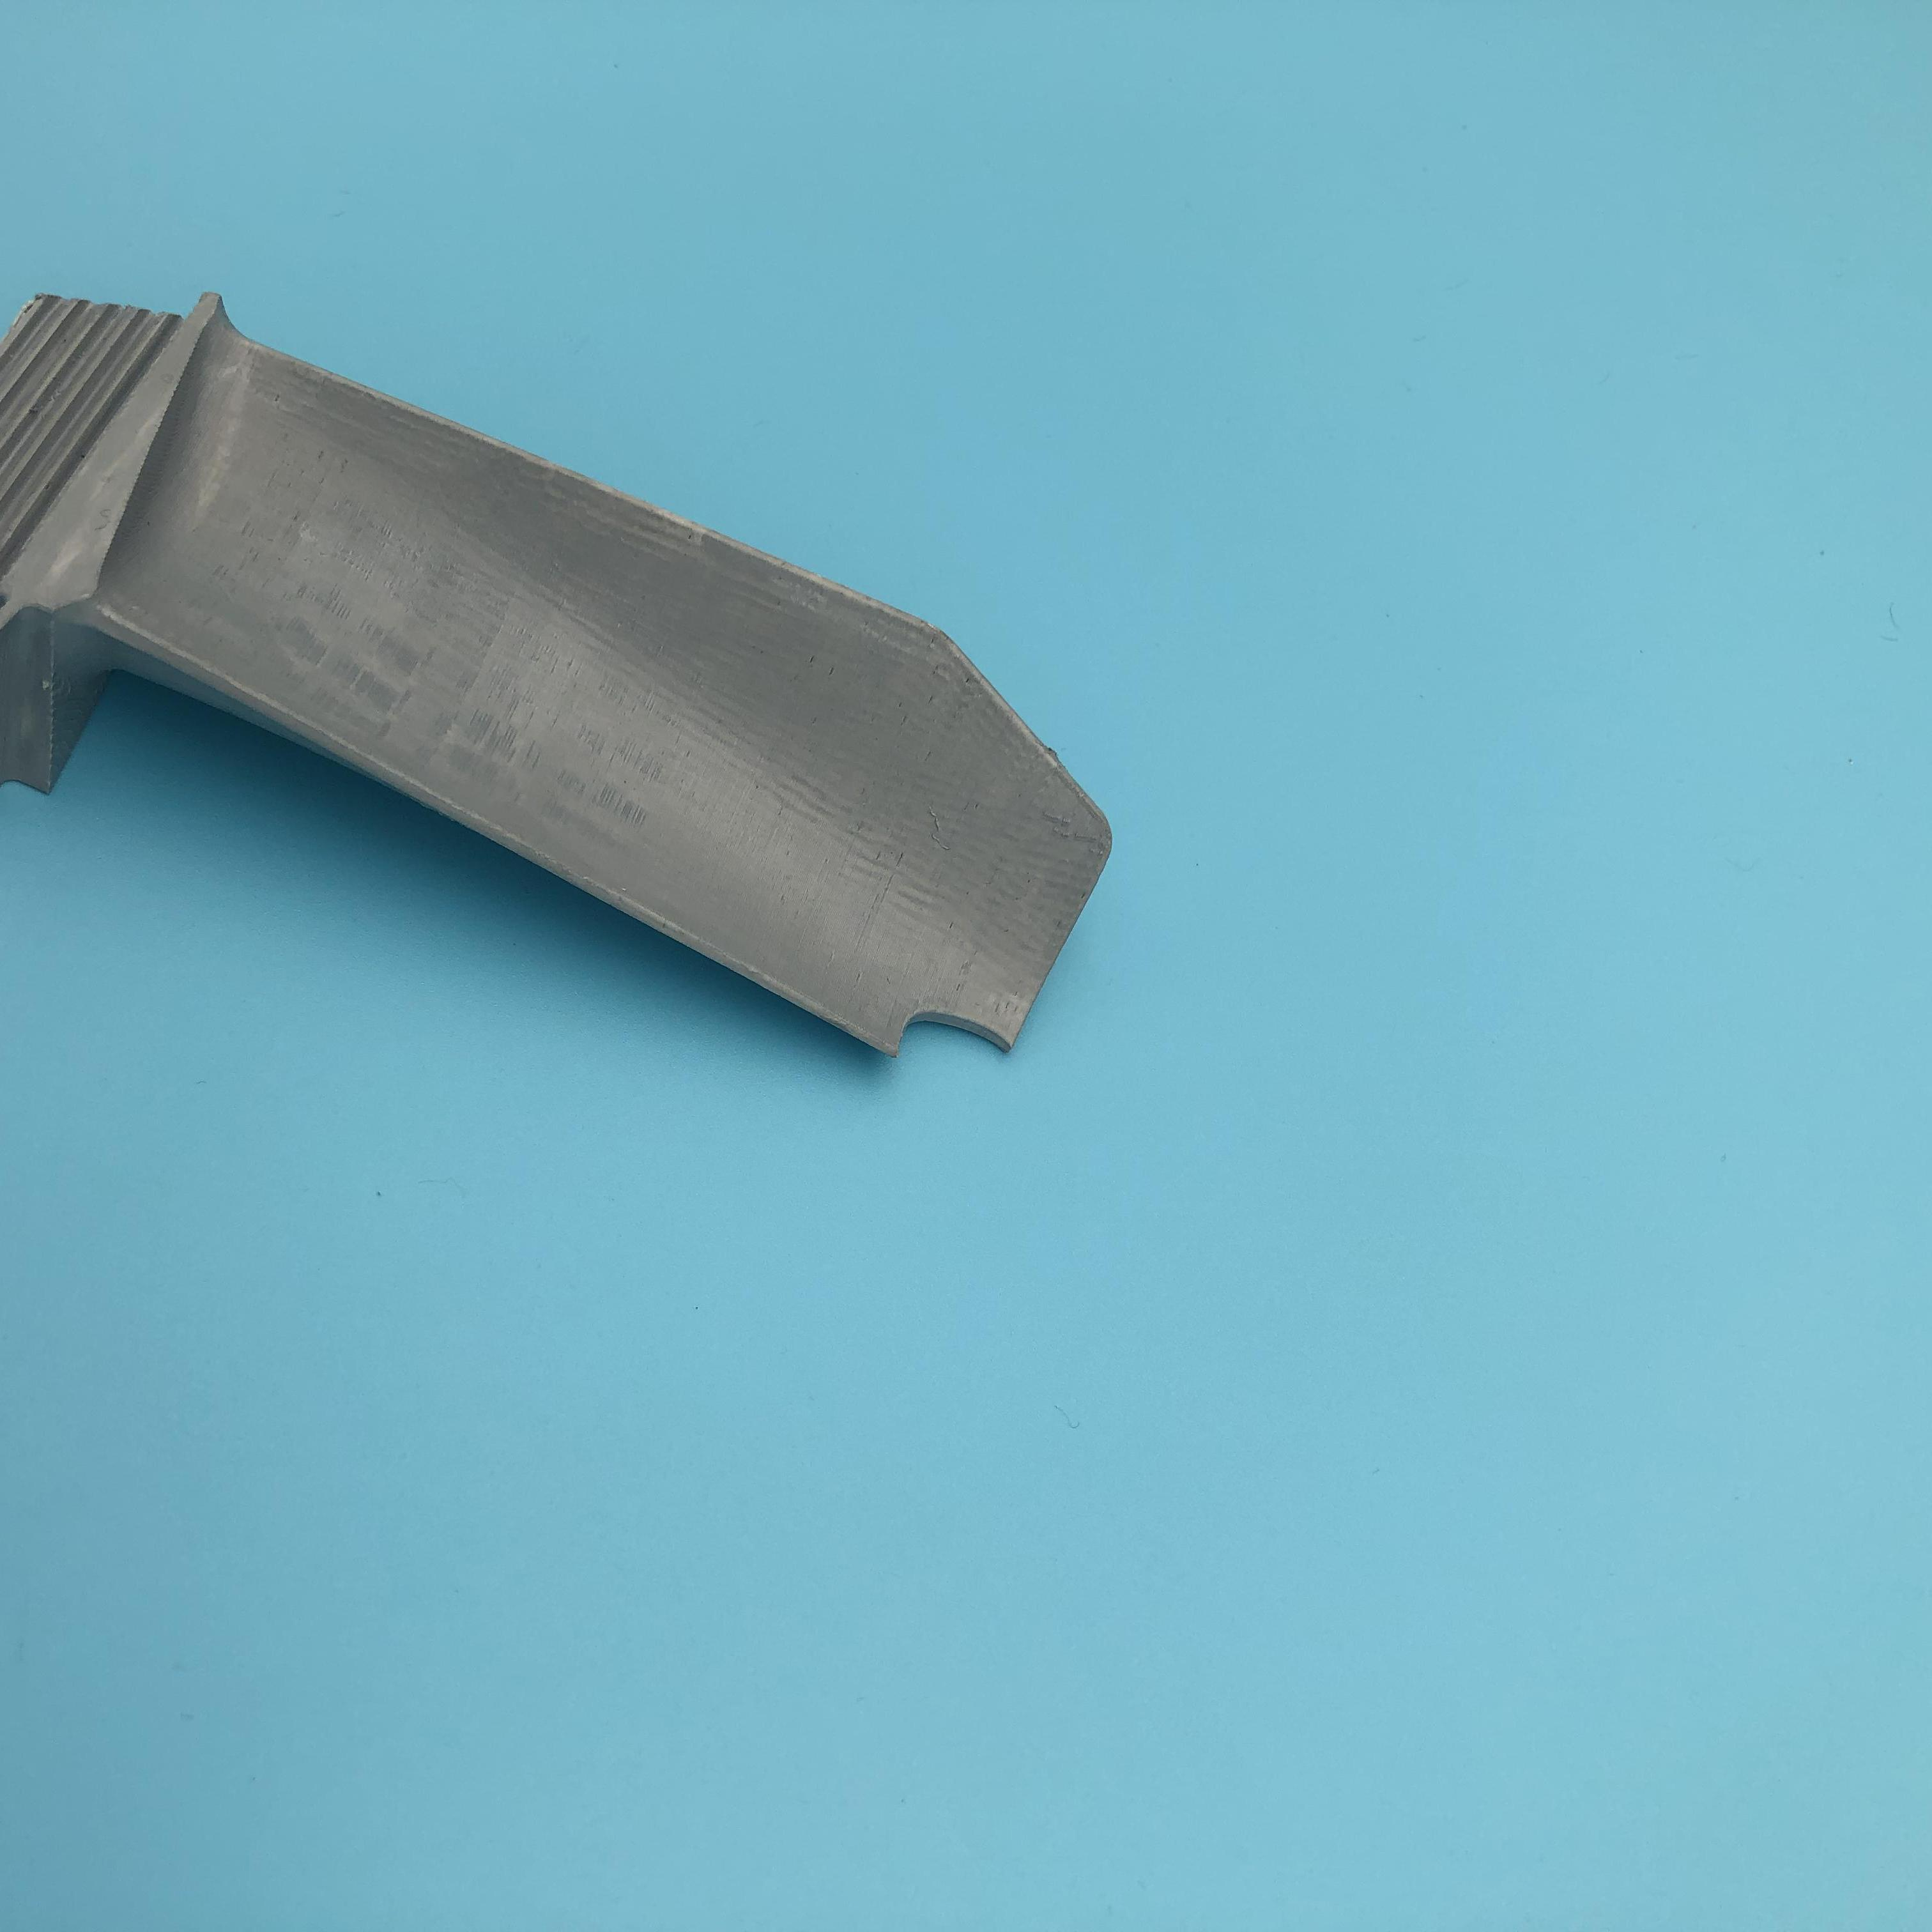fracture: (878, 1007, 1012, 1067)
